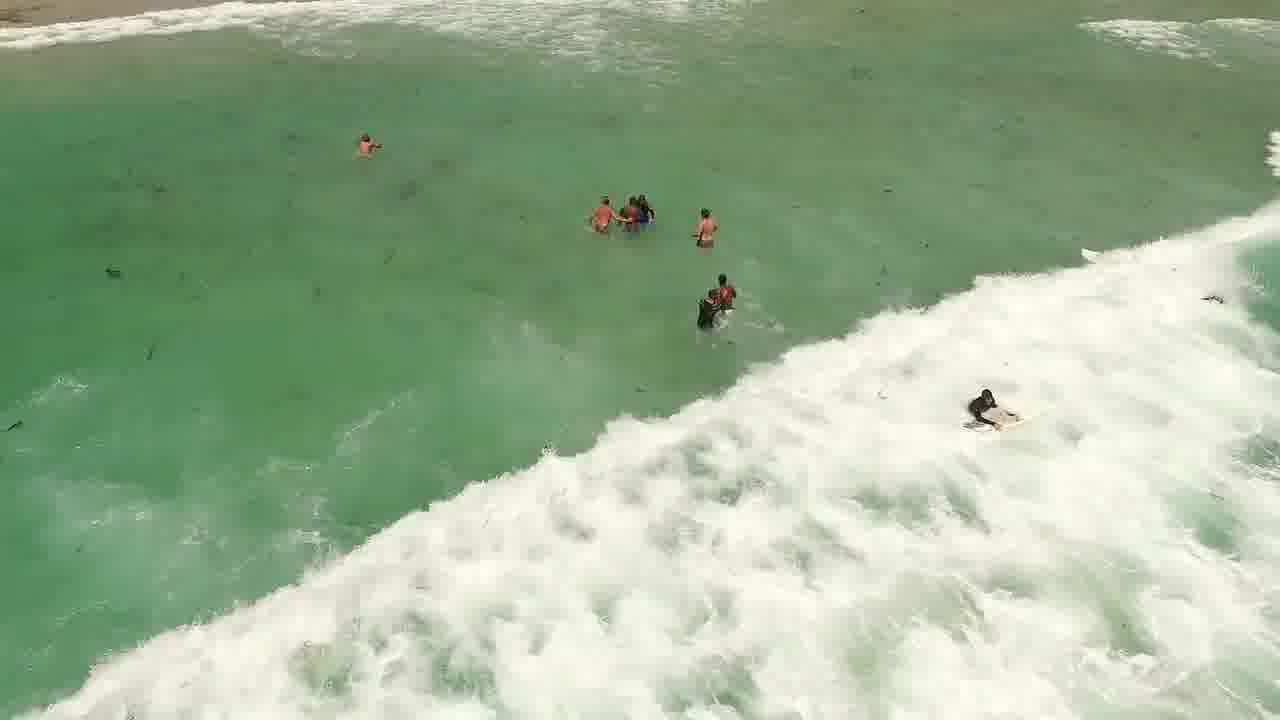swimmer: (339, 129, 393, 159)
